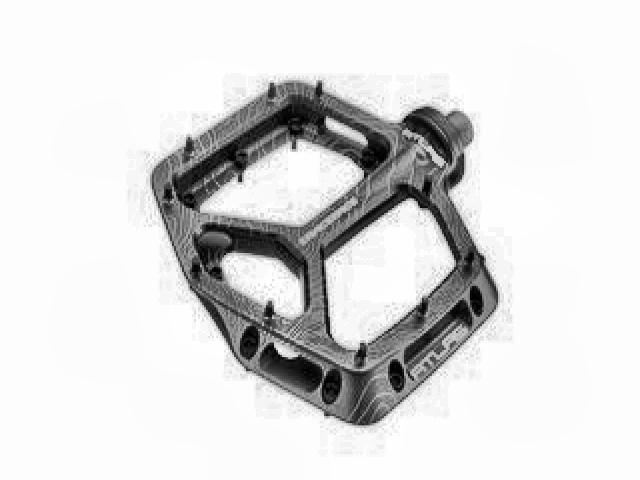pedal: (148, 73, 504, 424)
